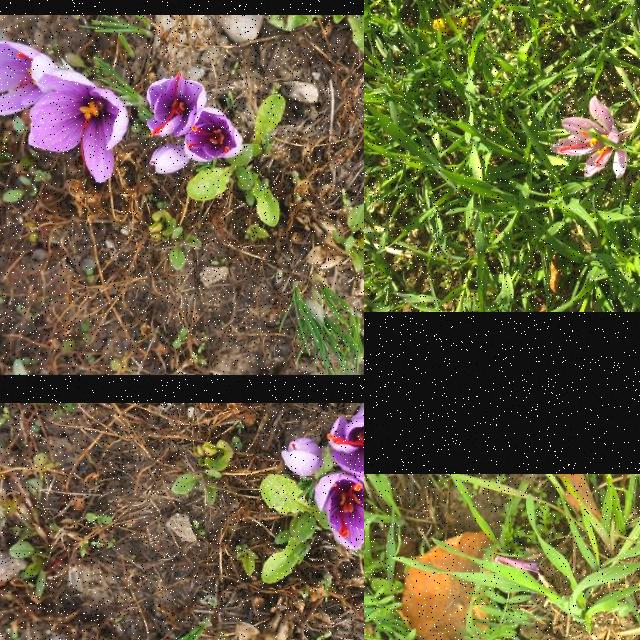flower: (28, 68, 128, 184), (550, 96, 628, 178), (146, 70, 212, 138), (0, 40, 55, 116), (315, 473, 364, 550), (180, 106, 242, 164), (328, 403, 364, 480), (280, 437, 324, 477), (149, 144, 189, 176)
